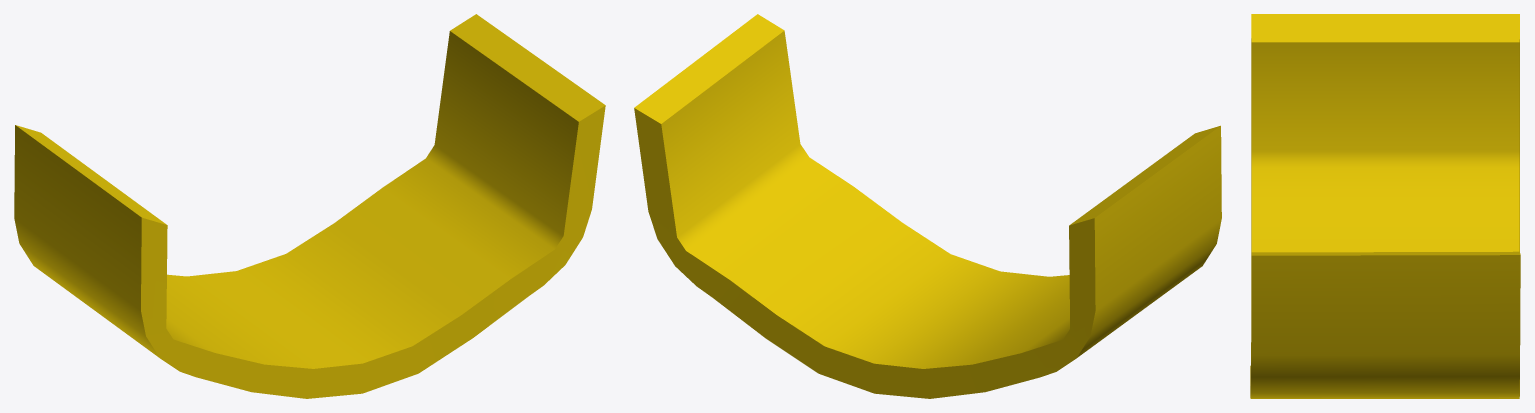
The model's file is Tiro2.fbx.
3 renders of one model, left to right at view 1: azimuth 30°, elevation 25°; view 2: azimuth 150°, elevation 25°; view 3: azimuth 270°, elevation 25°, orthographic. The views are drawn at different scales.
Visible parts, largest first — view 1: Tiro2; view 2: Tiro2; view 3: Tiro2.
Boxes of the visible parts, bbox=[...] form: Tiro2: bbox=[14, 14, 605, 398]; Tiro2: bbox=[634, 14, 1221, 398]; Tiro2: bbox=[1250, 14, 1520, 398].
Size of the model in its own units: 51.22 by 24.2 by 24.29.
